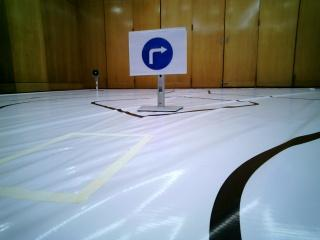right: (128, 28, 189, 73)
